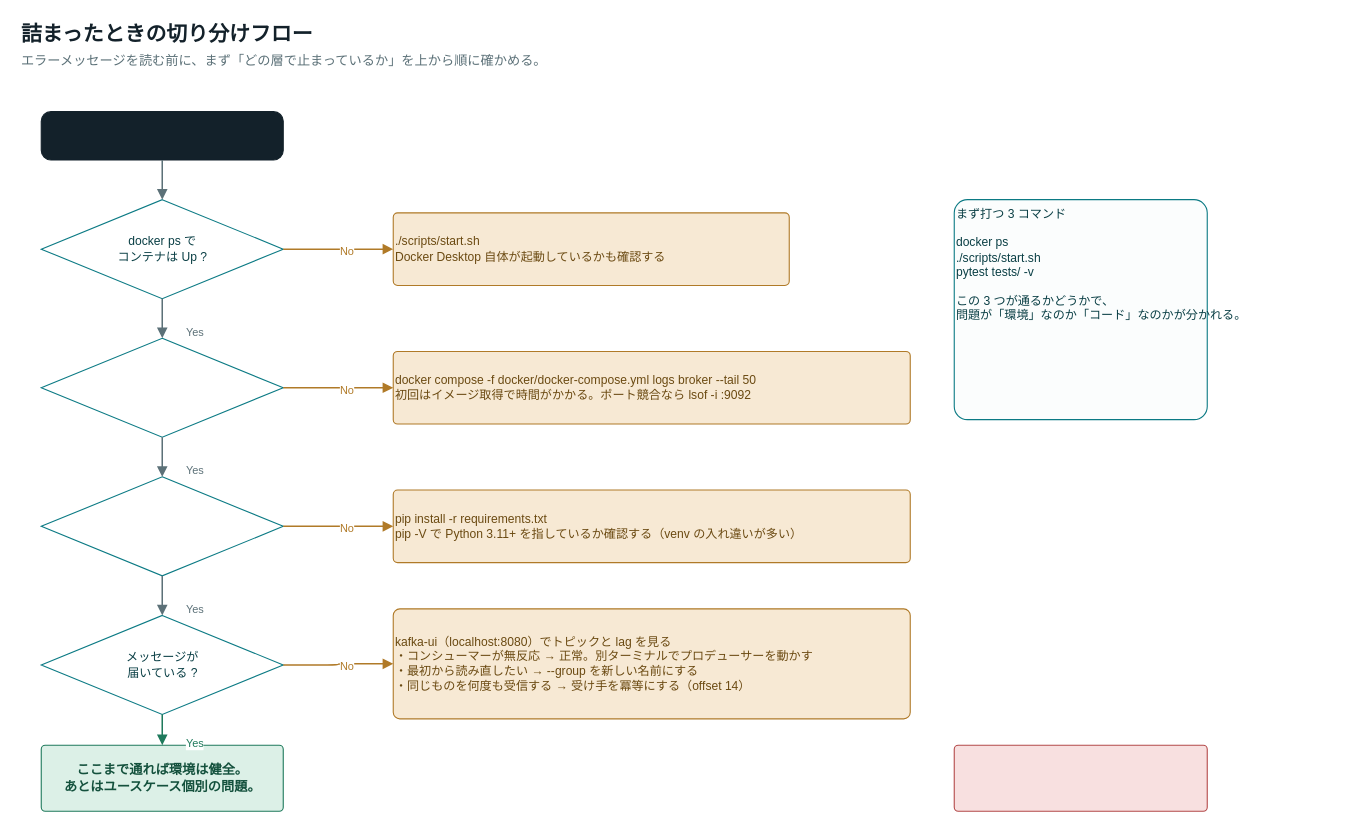
Some shapes in this 1350 by 831 pixel diagram are drawn without their labels. The centre of each missing label's shape, as x and y in pixels:
"Kafka is ready まで 到達する ?" goes at [161,387].
"python が モジュールを見つける ?" goes at [161,526].
"デモが動かない" goes at [161,135].
"最後の手段 ./scripts/reset.sh && ./scripts/start.sh （トピックのデータは全部消える。実験をやり直したいときに使う）" goes at [1080,777].
